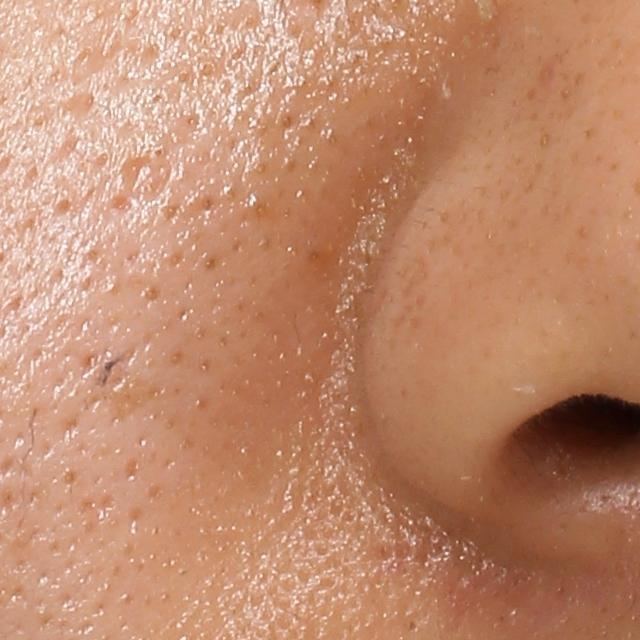atrophic_scar: (114, 154, 151, 198), (47, 92, 96, 121)
